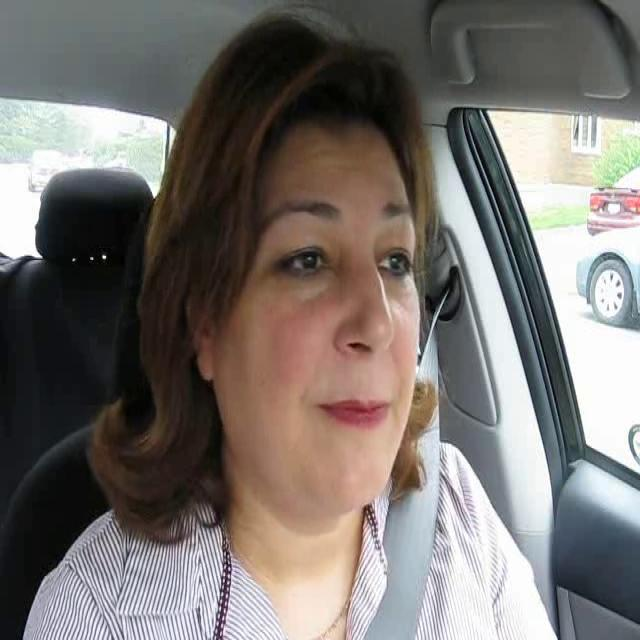close: (312, 388, 394, 432)
